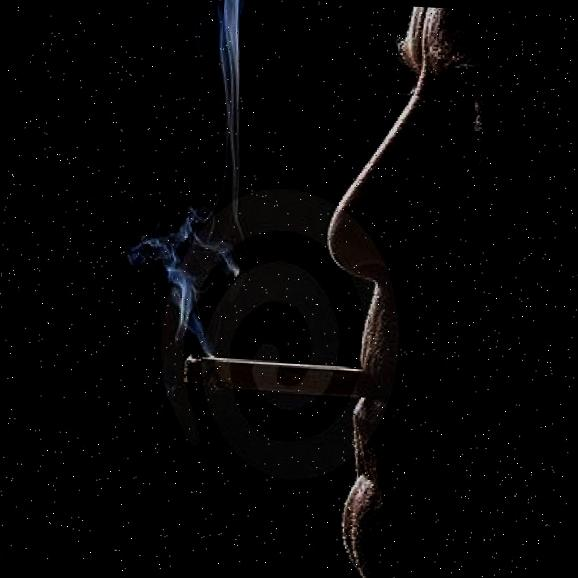smoke: (120, 188, 245, 350)
